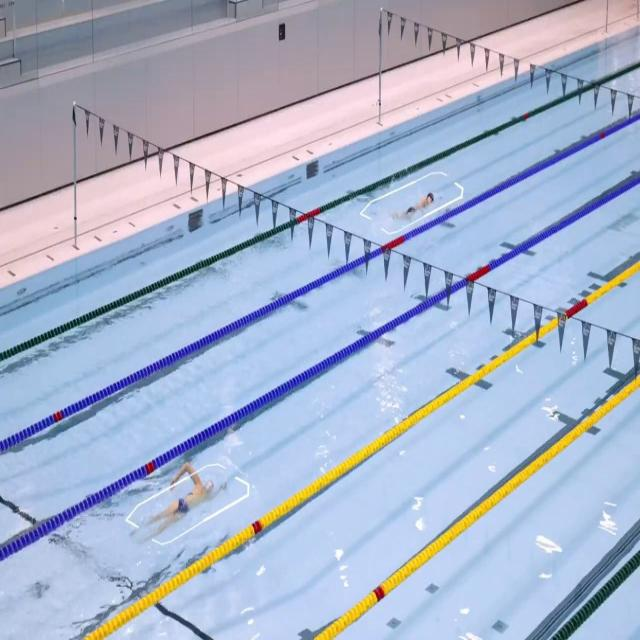Swimming: (129, 461, 229, 544), (389, 192, 443, 226)
